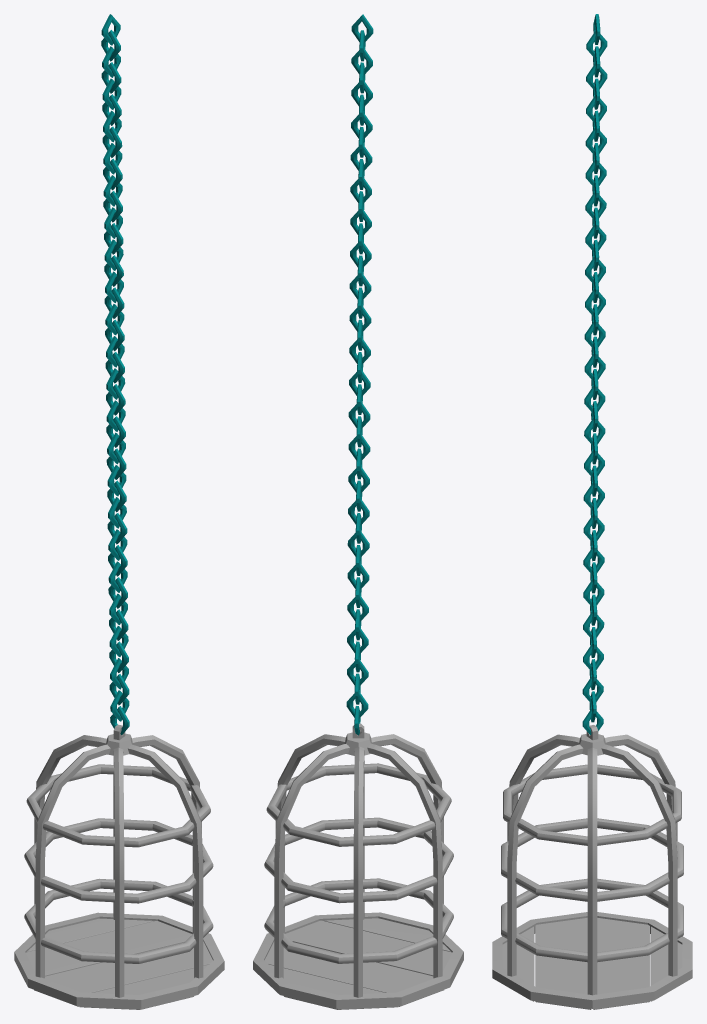
Rendered from Jaula.fbx.
3 renders of one model, left to right at view 1: azimuth 30°, elevation 25°; view 2: azimuth 150°, elevation 25°; view 3: azimuth 270°, elevation 25°, orthographic.
Visible parts, largest first — view 1: Juala; view 2: Juala; view 3: Juala.
Part boxes in pixels (x1=…): Juala: x1=14, y1=14, x2=224, y2=1009; Juala: x1=253, y1=14, x2=463, y2=1009; Juala: x1=492, y1=14, x2=692, y2=1009.
Size of the model in its own units: 3.42 by 17.02 by 3.25.
